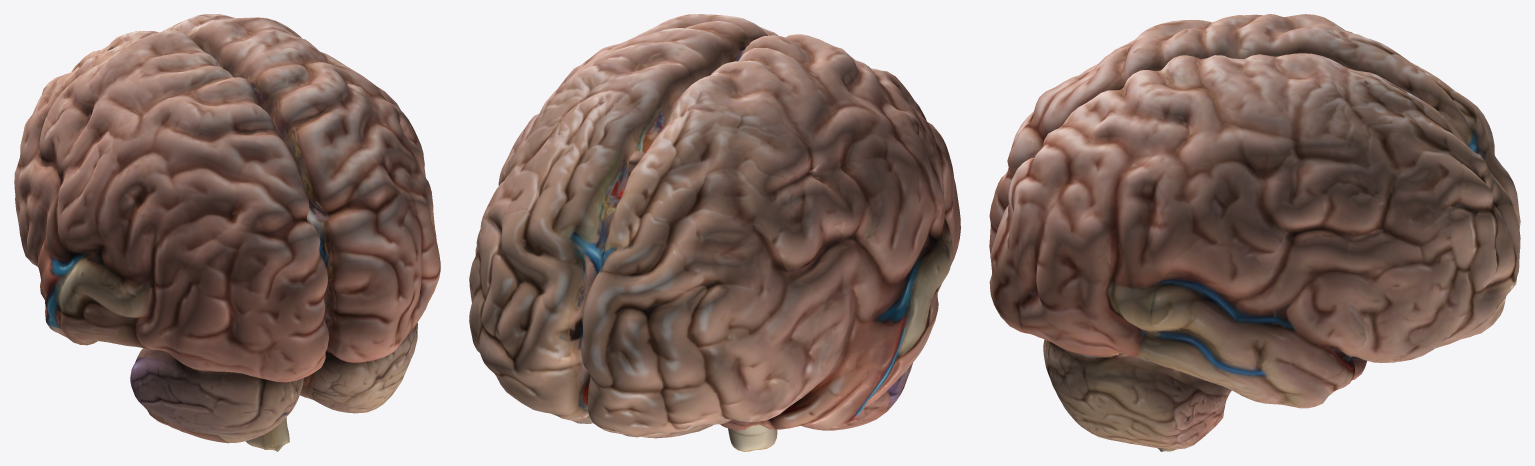
3 renders of one model, left to right at view 1: azimuth 30°, elevation 25°; view 2: azimuth 150°, elevation 25°; view 3: azimuth 270°, elevation 25°, orthographic. The views are drawn at different scales.
Parts seen in each view (by area): view 1: 大脑, 小脑, 脑干, 1d571e6a-34a5-401b-9e2f-810e65c5ae2f; view 2: 大脑, 1d571e6a-34a5-401b-9e2f-810e65c5ae2f, 小脑, 脑干; view 3: 大脑, 小脑.
Part boxes in pixels (left/top/right/bottom): 大脑: left=14, top=14, right=440, bottom=382; 小脑: left=130, top=323, right=417, bottom=443; 脑干: left=245, top=417, right=289, bottom=451; 1d571e6a-34a5-401b-9e2f-810e65c5ae2f: left=200, top=46, right=330, bottom=303; 大脑: left=469, top=14, right=960, bottom=438; 1d571e6a-34a5-401b-9e2f-810e65c5ae2f: left=560, top=96, right=878, bottom=402; 小脑: left=801, top=363, right=912, bottom=430; 脑干: left=728, top=424, right=777, bottom=451; 大脑: left=989, top=14, right=1520, bottom=408; 小脑: left=1043, top=339, right=1231, bottom=449.
Size of the model in its own units: 16.68 by 17.28 by 20.76.
1 material, 1 textured.
